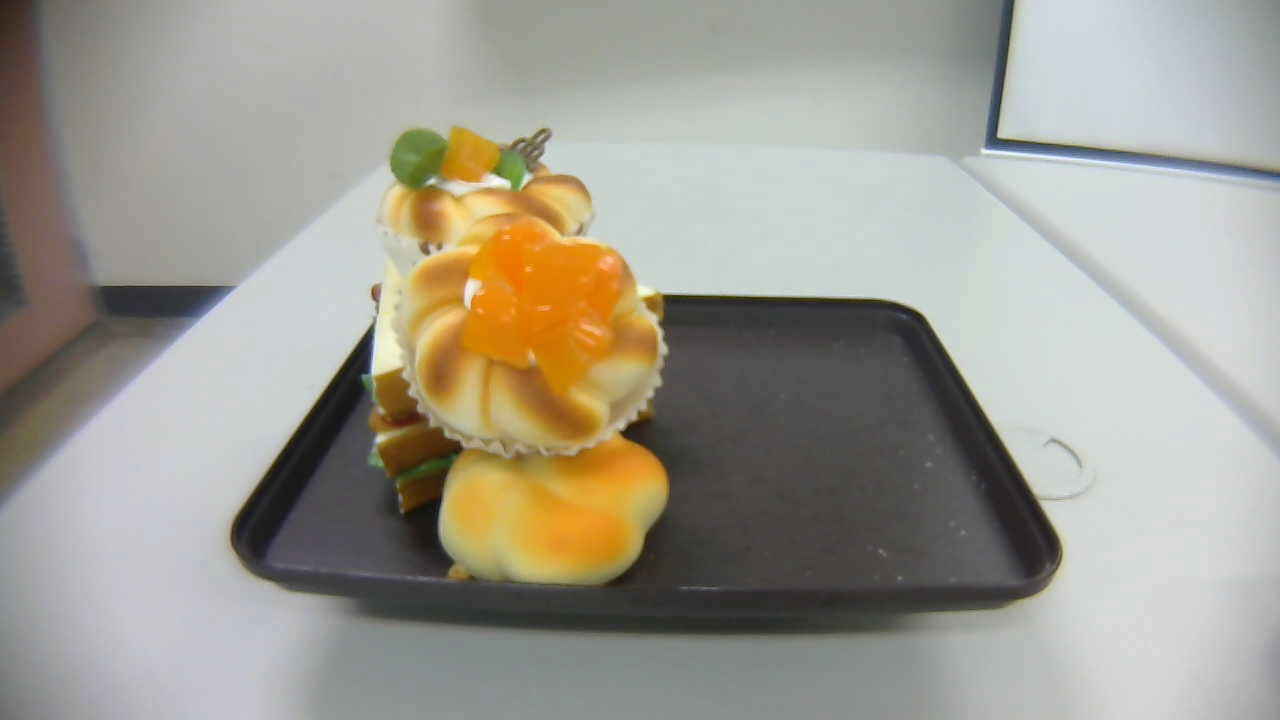fruit tart: (374, 124, 596, 281)
mango tart: (393, 213, 667, 461)
sandwich: (371, 210, 670, 511)
twist bread: (437, 410, 669, 589)
